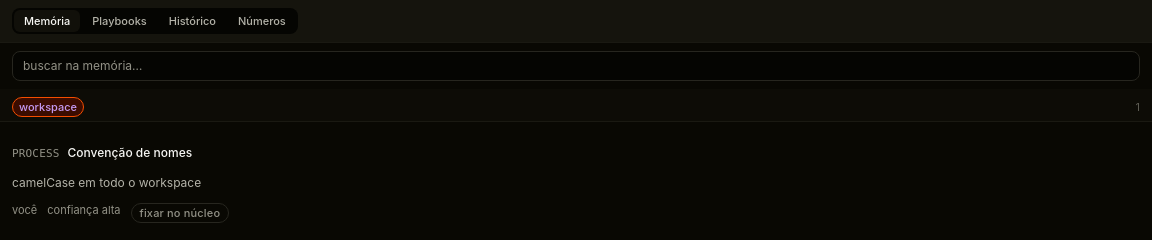
MemoryPanel › o histórico mostra o que NÃO virou arquivo
This screenshot has width=1152, height=240.
What coordinates should you click on to do the following:
click the tab "Histórico"
I would click on:
 (192, 21)
Its box is [159, 10, 226, 32].
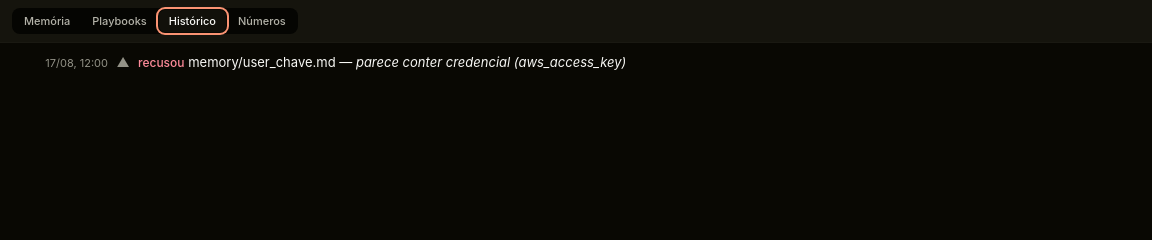
Expected: the text "recusou" is shown, [138, 55, 184, 70]
Expected: the text "parece conter credencial (aws_access_key)" is shown, [356, 54, 626, 70]
